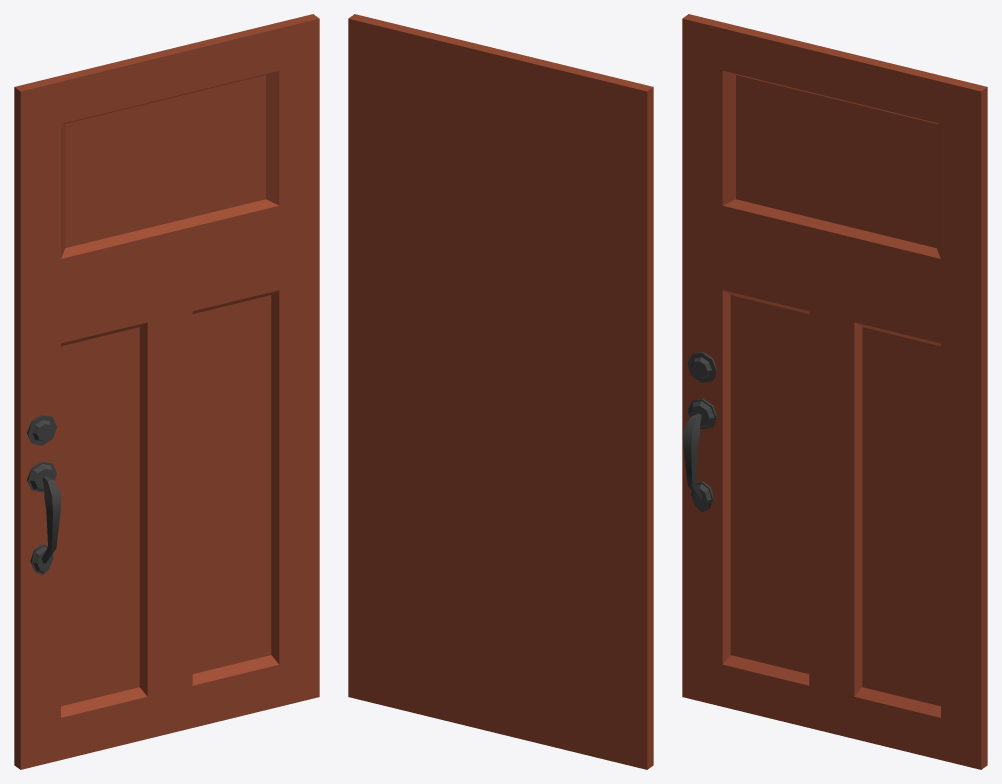
File: SM_door_02.fbx
3 renders of one model, left to right at view 1: azimuth 30°, elevation 25°; view 2: azimuth 150°, elevation 25°; view 3: azimuth 330°, elevation 25°, orthographic.
Parts seen in each view (by area): view 1: Box037; view 2: Box037; view 3: Box037.
Part boxes in pixels (box(x1,y1,x2,y2)): Box037: box(14, 14, 319, 769); Box037: box(348, 14, 653, 769); Box037: box(682, 14, 987, 769).
Bounding box in the file's own units: 38.13 × 82.68 × 4.83.
